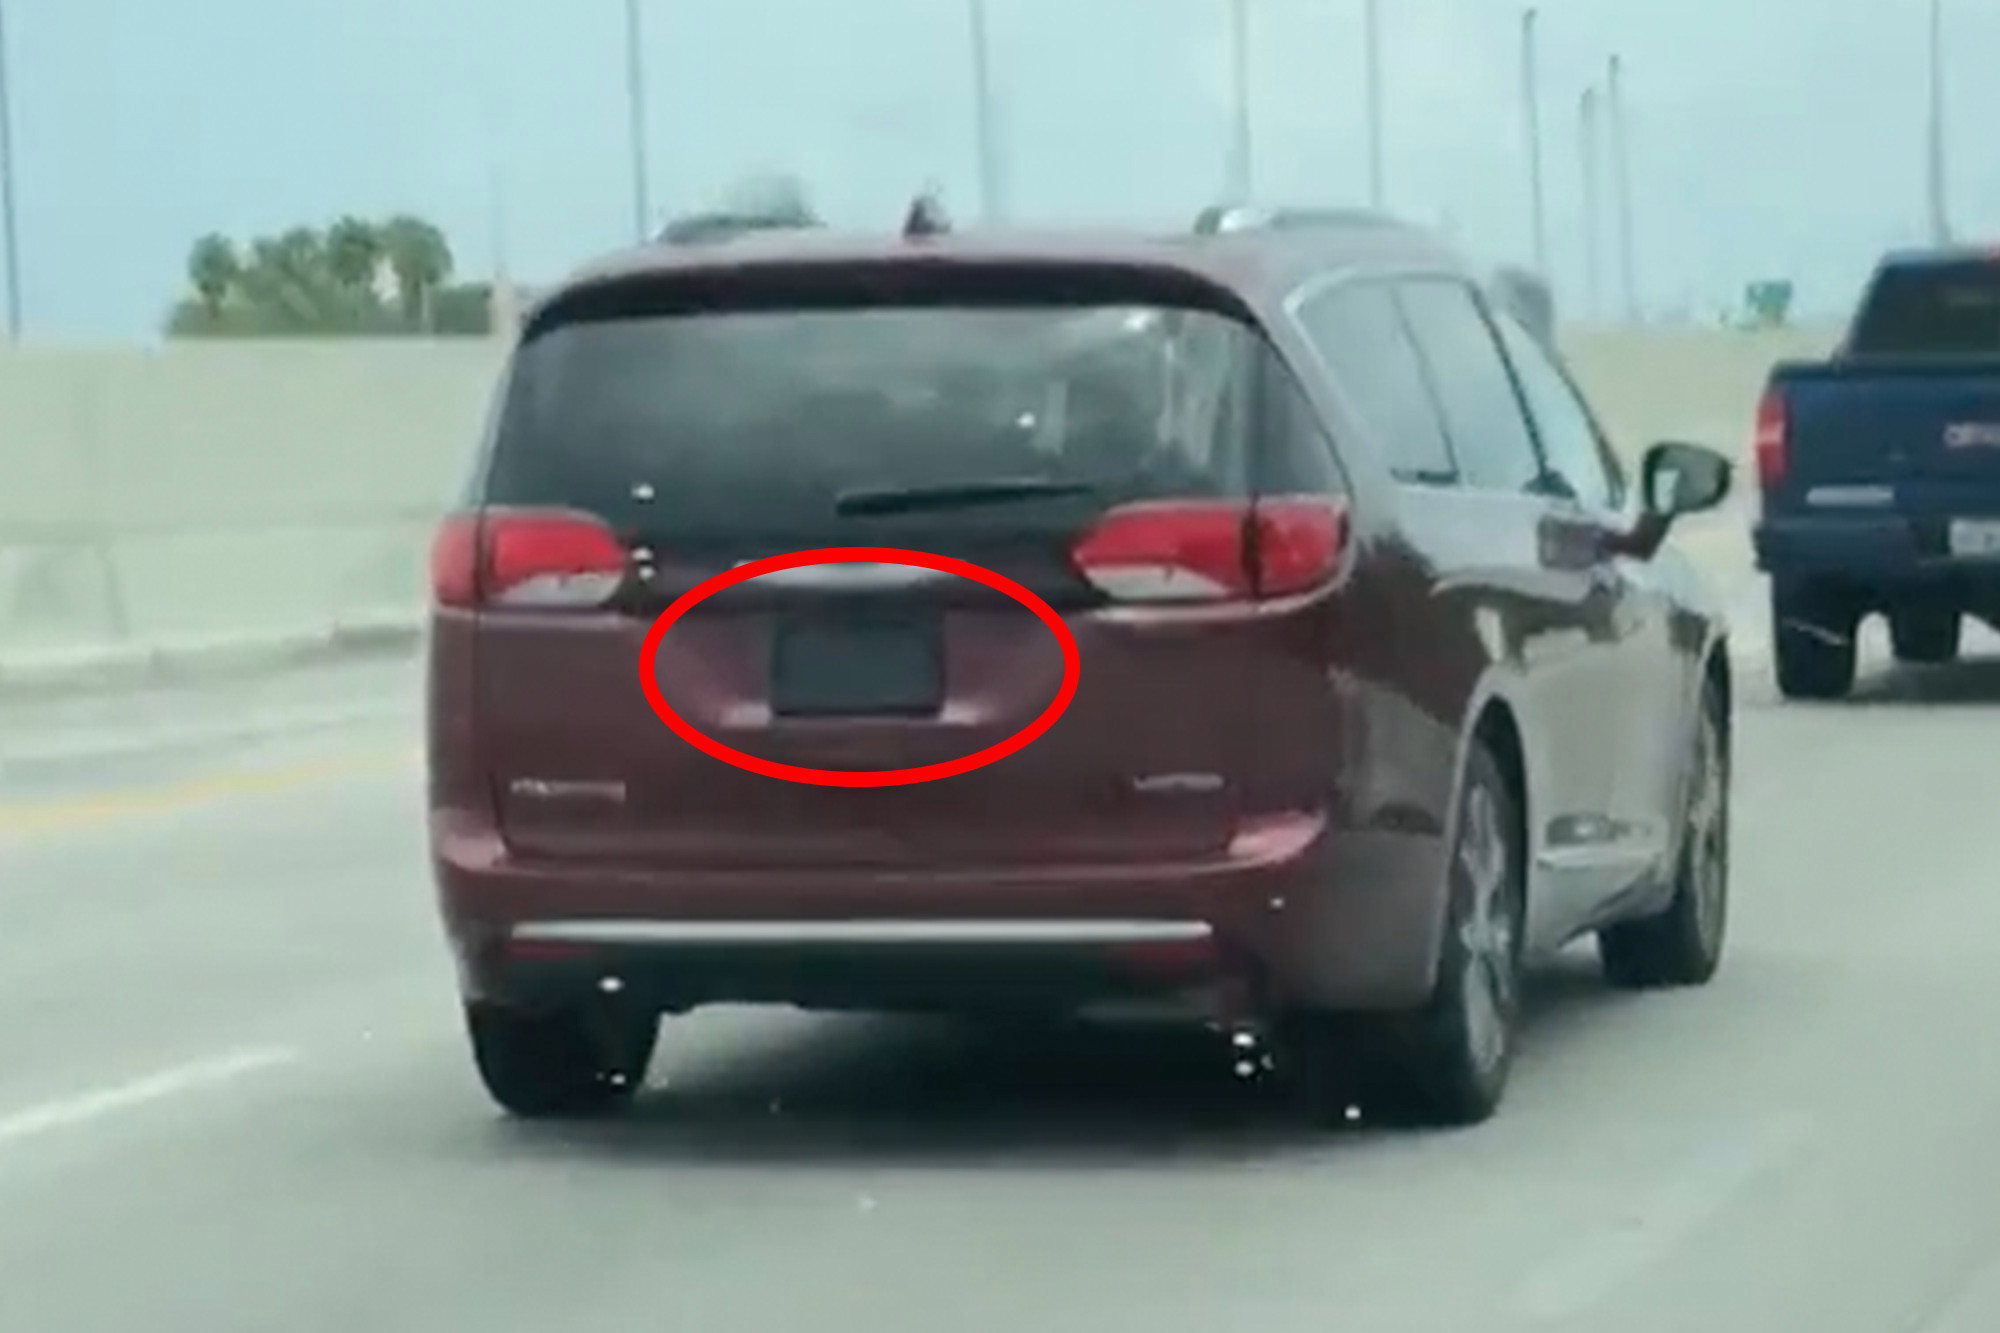license plate: (767, 607, 949, 722)
